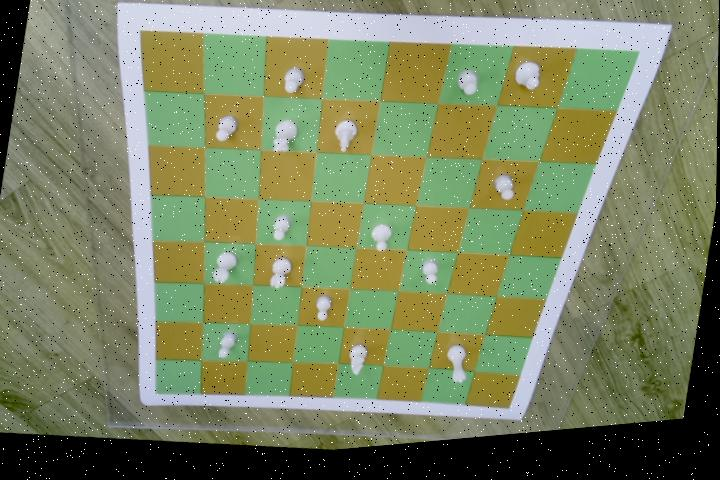chessboard-detect: (139, 32, 641, 419)
